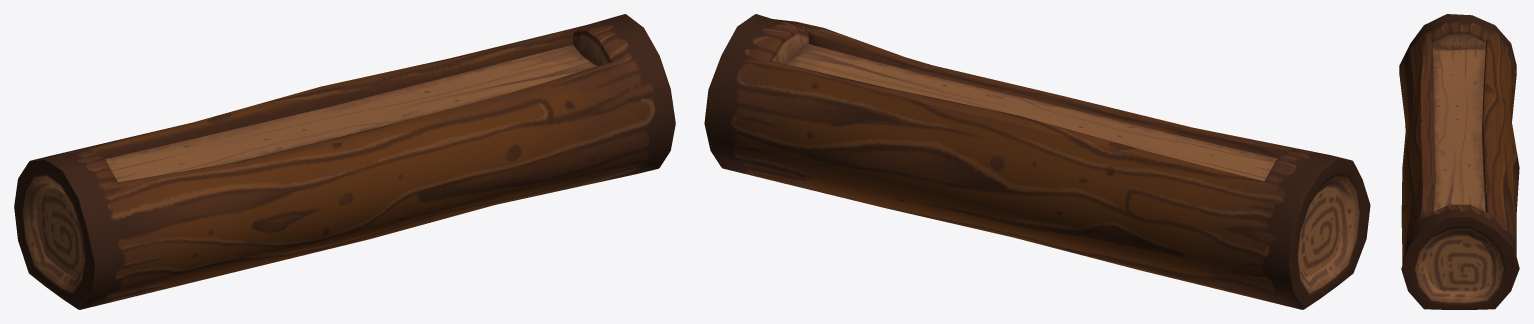
File: log_seat.glb
The picture shows the model from 3 angles, left to right: view 1: azimuth 30°, elevation 25°; view 2: azimuth 150°, elevation 25°; view 3: azimuth 270°, elevation 25°; orthographic projection. The views are drawn at different scales.
Visible parts, largest first — view 1: Log_bench; view 2: Log_bench; view 3: Log_bench.
Part boxes in pixels (x1,y1,x2,y2): Log_bench: [14, 14, 675, 309]; Log_bench: [704, 14, 1370, 309]; Log_bench: [1399, 14, 1519, 309].
Bounding box in the file's own units: 2.81 × 0.6034 × 0.6992.
1 material, 1 textured.
